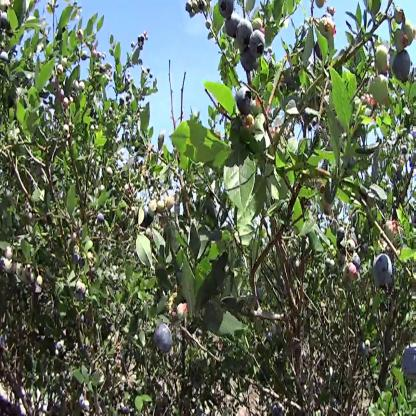intermediate: (319, 14, 341, 44), (341, 261, 359, 284), (385, 220, 396, 243)
mature: (155, 325, 175, 354), (394, 52, 411, 83), (403, 342, 416, 380), (237, 89, 253, 119), (375, 258, 394, 282), (239, 26, 253, 49), (215, 1, 235, 16), (224, 21, 242, 37), (253, 29, 262, 59), (240, 52, 255, 68), (336, 228, 344, 245)
young: (371, 75, 388, 101), (376, 47, 388, 73), (72, 80, 83, 91)
